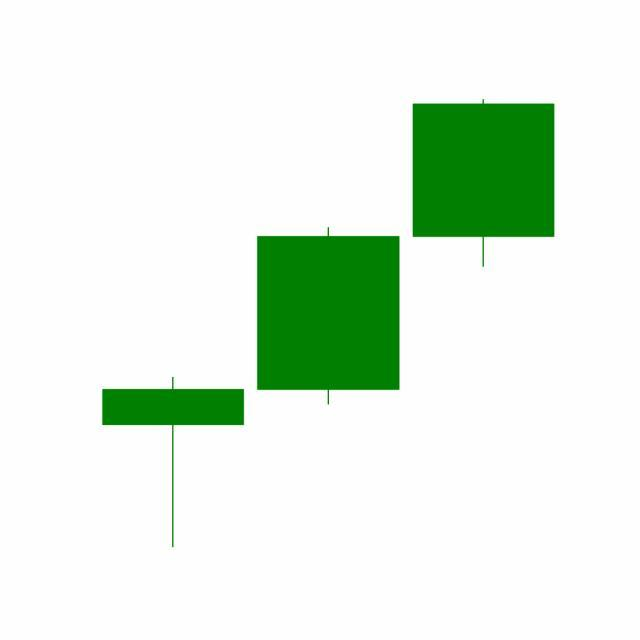Marubozu: (250, 225, 407, 407)
